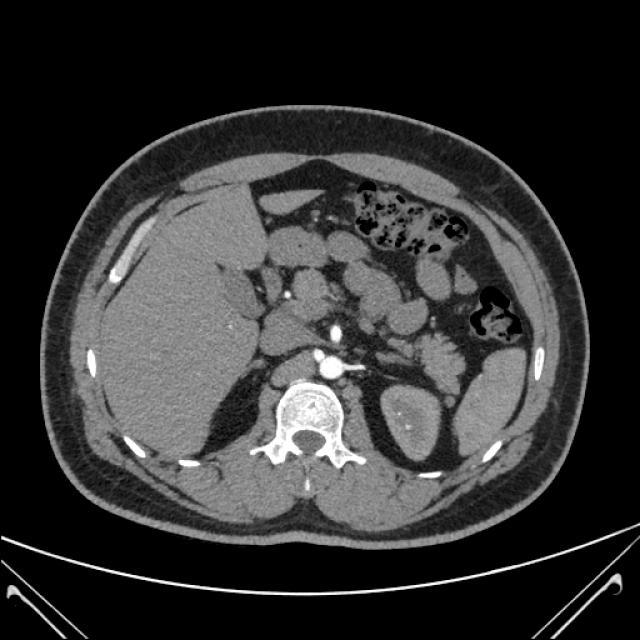Kidney: (18, 60, 588, 526)
